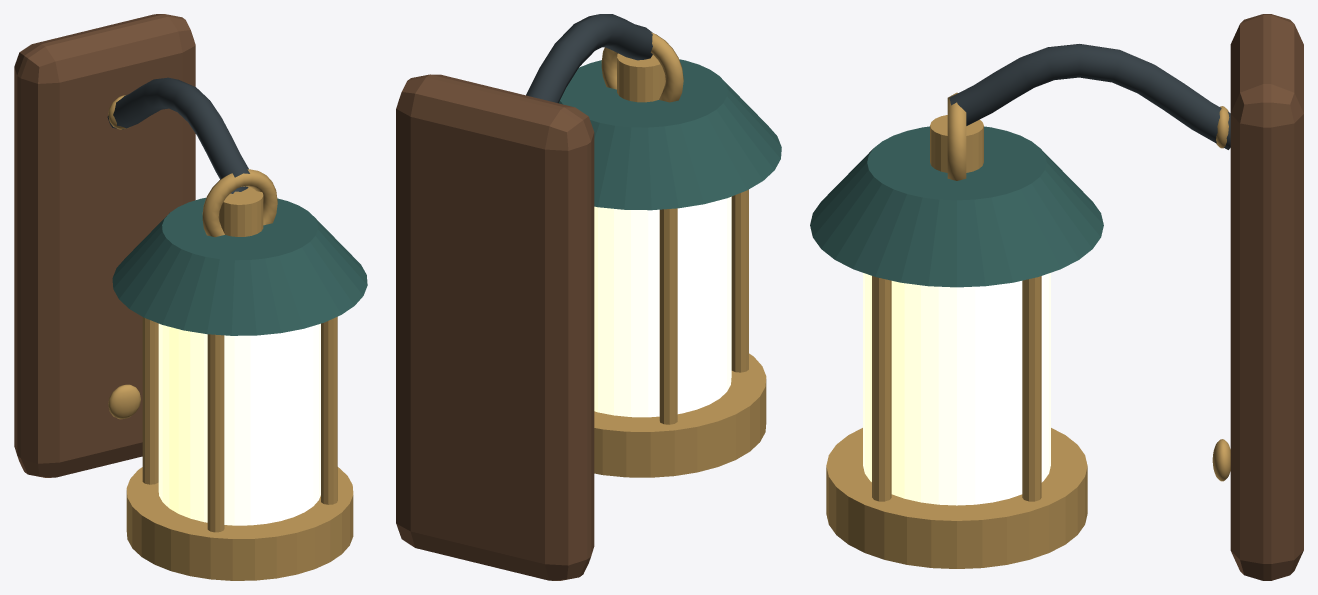
3 views of the same model, side by side, from view 1: azimuth 30°, elevation 25°; view 2: azimuth 150°, elevation 25°; view 3: azimuth 270°, elevation 25° (orthographic). The views are drawn at different scales.
Visible parts, largest first — view 1: workshop_wood_dark, workshop_brass, workshop_lamp_glass, workshop_teal_dark, workshop_steel_dark; view 2: workshop_wood_dark, workshop_lamp_glass, workshop_brass, workshop_teal_dark, workshop_steel_dark; view 3: workshop_wood_dark, workshop_teal_dark, workshop_brass, workshop_lamp_glass, workshop_steel_dark.
Part boxes in pixels (x1=…): workshop_wood_dark: x1=14, y1=14, x2=195, y2=477; workshop_brass: x1=108, y1=95, x2=353, y2=580; workshop_lamp_glass: x1=158, y1=323, x2=320, y2=525; workshop_teal_dark: x1=112, y1=197, x2=367, y2=335; workshop_steel_dark: x1=107, y1=77, x2=249, y2=193; workshop_wood_dark: x1=396, y1=74, x2=594, y2=580; workshop_lamp_glass: x1=594, y1=196, x2=731, y2=417; workshop_brass: x1=594, y1=32, x2=766, y2=477; workshop_teal_dark: x1=559, y1=59, x2=781, y2=210; workshop_steel_dark: x1=526, y1=14, x2=652, y2=103; workshop_wood_dark: x1=1230, y1=14, x2=1303, y2=580; workshop_teal_dark: x1=810, y1=126, x2=1103, y2=287; workshop_brass: x1=826, y1=92, x2=1230, y2=568; workshop_lamp_glass: x1=863, y1=273, x2=1050, y2=505; workshop_steel_dark: x1=949, y1=44, x2=1230, y2=149.
Size of the model in its own units: 0.36 by 0.677 by 0.605.
